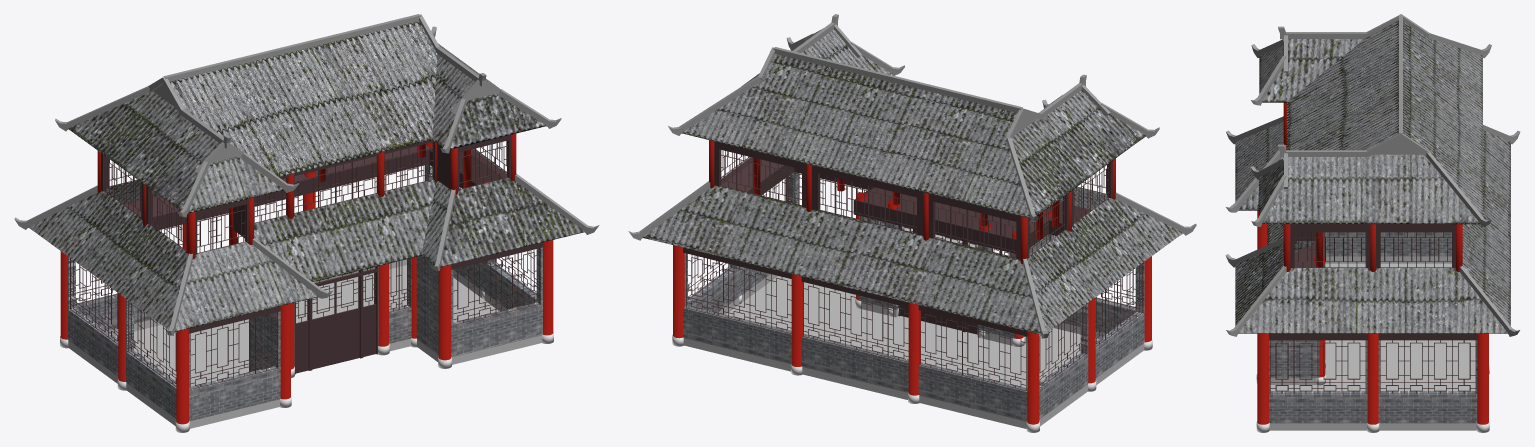
File: qingliangting.glb
The picture shows the model from 3 angles, left to right: view 1: azimuth 30°, elevation 25°; view 2: azimuth 150°, elevation 25°; view 3: azimuth 270°, elevation 25°; orthographic projection. The views are drawn at different scales.
Parts seen in each view (by area): view 1: Cube.176, Cube.015, Cube.184, Cube.182, Cube.178, Cube.180, Cube.099, Plane.008, Plane.009, Cylinder.029, Cylinder, Cube.181 (+8 smaller); view 2: Cube.176, Cube.015, Cube.184, Cube.178, Cube.182, Cube.180, Cylinder.035, Cylinder.034, Cylinder.033, Cylinder.032, Cube.181, Cylinder (+1 smaller); view 3: Cube.176, Cube.015, Cube.184, Cube.182, Cube.178, Cube.180, Cylinder.032, Cylinder.030, Cylinder.031, Cube.181, Cube.126, Cube.121 (+9 smaller).
Part boxes in pixels (x1,y1,x2,y2): Cube.176: [28, 21, 584, 331]; Cube.015: [68, 145, 542, 428]; Cube.184: [115, 265, 498, 386]; Cube.182: [14, 26, 599, 335]; Cube.178: [101, 135, 510, 254]; Cube.180: [163, 14, 486, 148]; Cube.099: [294, 266, 378, 374]; Plane.008: [335, 276, 359, 363]; Plane.009: [312, 282, 335, 369]; Cylinder.029: [438, 265, 451, 368]; Cylinder: [175, 328, 189, 432]; Cube.181: [148, 14, 501, 173]; Cube.176: [642, 30, 1182, 334]; Cube.015: [683, 159, 1144, 428]; Cube.184: [726, 276, 1098, 387]; Cube.178: [714, 141, 1112, 259]; Cube.182: [628, 33, 1196, 338]; Cube.180: [773, 14, 1086, 119]; Cylinder.035: [1026, 331, 1039, 432]; Cylinder.034: [908, 302, 920, 403]; Cylinder.033: [791, 274, 803, 375]; Cylinder.032: [672, 245, 684, 346]; Cube.181: [758, 24, 1110, 138]; Cylinder: [1144, 256, 1152, 350]; Cube.176: [1235, 20, 1510, 333]; Cube.015: [1269, 232, 1477, 430]; Cube.184: [1270, 263, 1475, 390]; Cube.182: [1225, 33, 1520, 336]; Cube.178: [1280, 224, 1455, 268]; Cube.180: [1278, 15, 1402, 157]; Cylinder.032: [1476, 333, 1489, 432]; Cylinder.030: [1256, 333, 1269, 432]; Cylinder.031: [1367, 333, 1379, 432]; Cube.181: [1284, 14, 1429, 188]; Cube.126: [1270, 340, 1294, 393]; Cube.121: [1452, 340, 1476, 393].
Bounding box in the file's own units: 11.88 × 7.51 × 7.39.
Materials: 9 (3 with a texture image).
